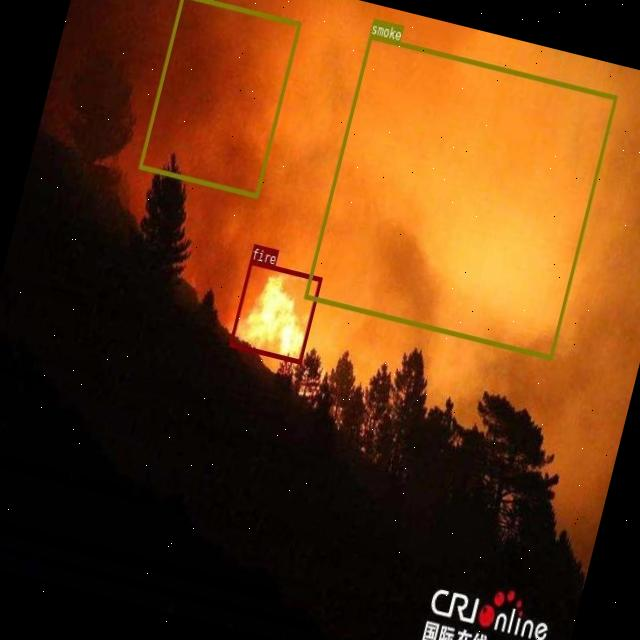fire: (228, 258, 322, 362)
smoke: (304, 33, 617, 360), (137, 0, 300, 197)
